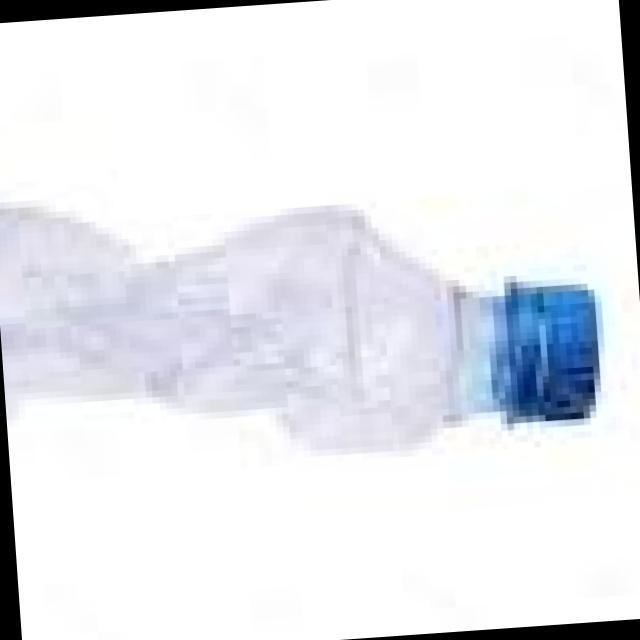defected: (0, 143, 618, 481)
